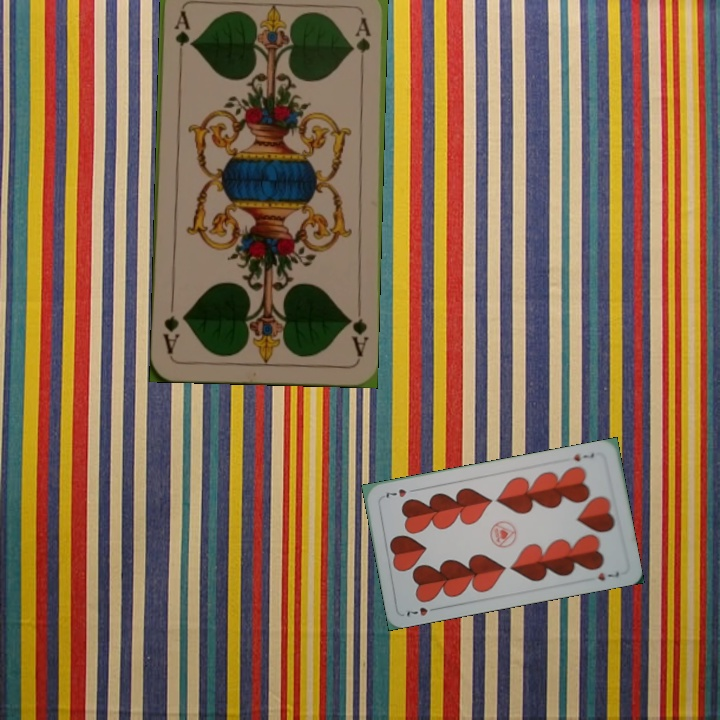GA: (344, 302, 370, 359), (170, 7, 193, 66)
H7: (402, 603, 441, 619), (570, 448, 597, 464)
